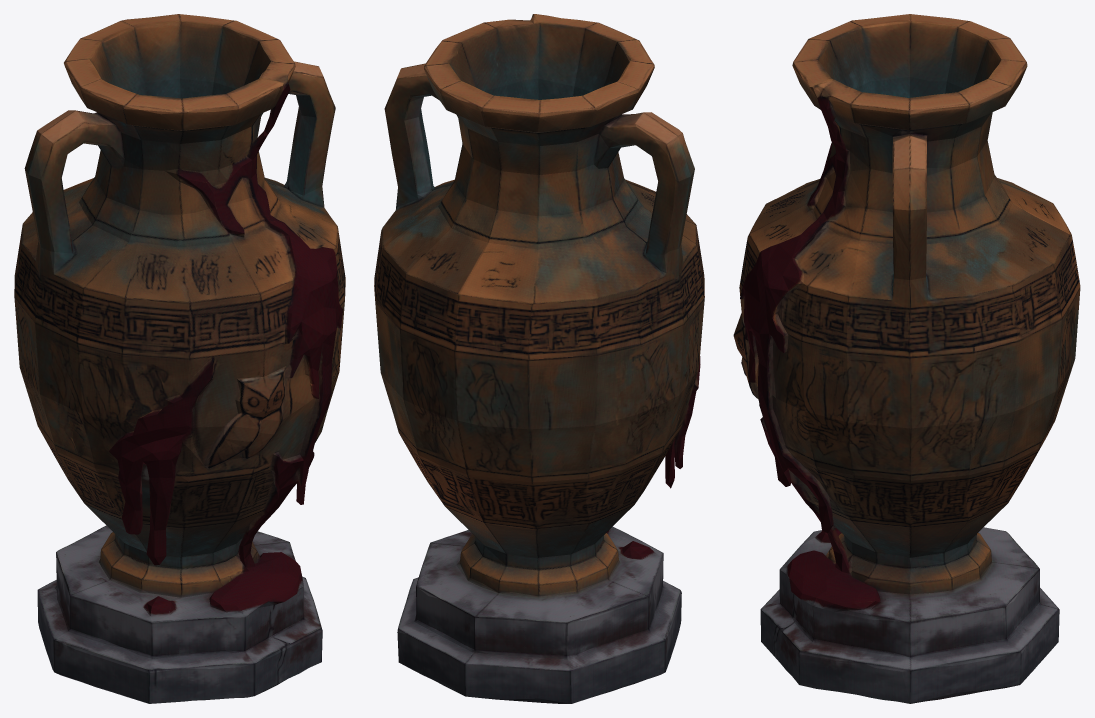
File: jare.glb
3 views of the same model, side by side, from view 1: azimuth 30°, elevation 25°; view 2: azimuth 150°, elevation 25°; view 3: azimuth 270°, elevation 25° (orthographic).
Parts seen in each view (by area): view 1: world; view 2: world; view 3: world.
Part boxes in pixels (left/top/right/bottom): world: left=14, top=14, right=345, bottom=703; world: left=374, top=14, right=704, bottom=703; world: left=733, top=14, right=1080, bottom=703.
Bounding box in the file's own units: 0.544 × 1 × 0.5382.
Materials: 1 (1 with a texture image).
